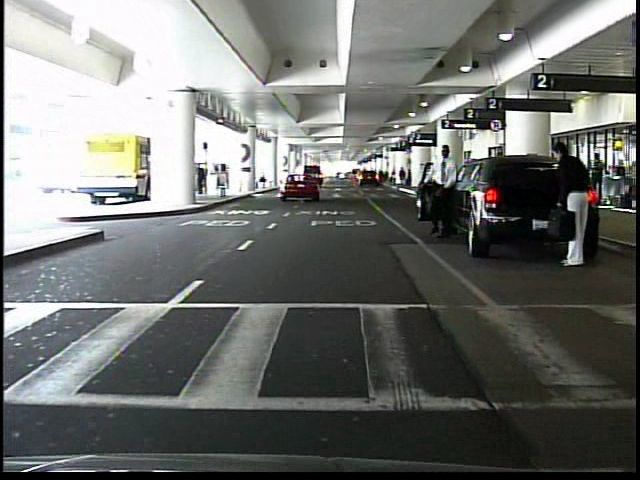person: (544, 138, 591, 267), (424, 144, 453, 242), (590, 153, 604, 206), (194, 160, 208, 196), (398, 165, 409, 189)
